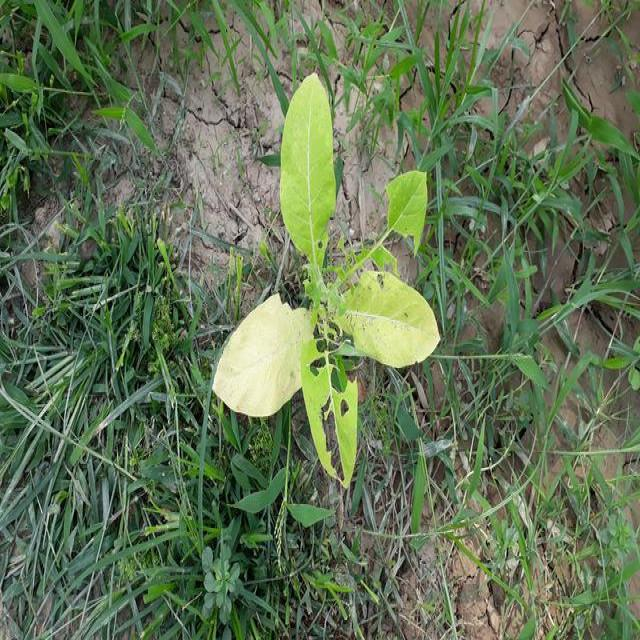crop: (213, 68, 440, 491)
